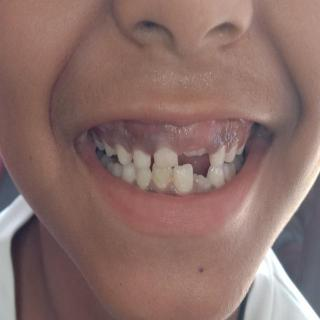maligned: (174, 161, 196, 194)
plaque: (150, 164, 174, 190), (137, 166, 151, 192)
